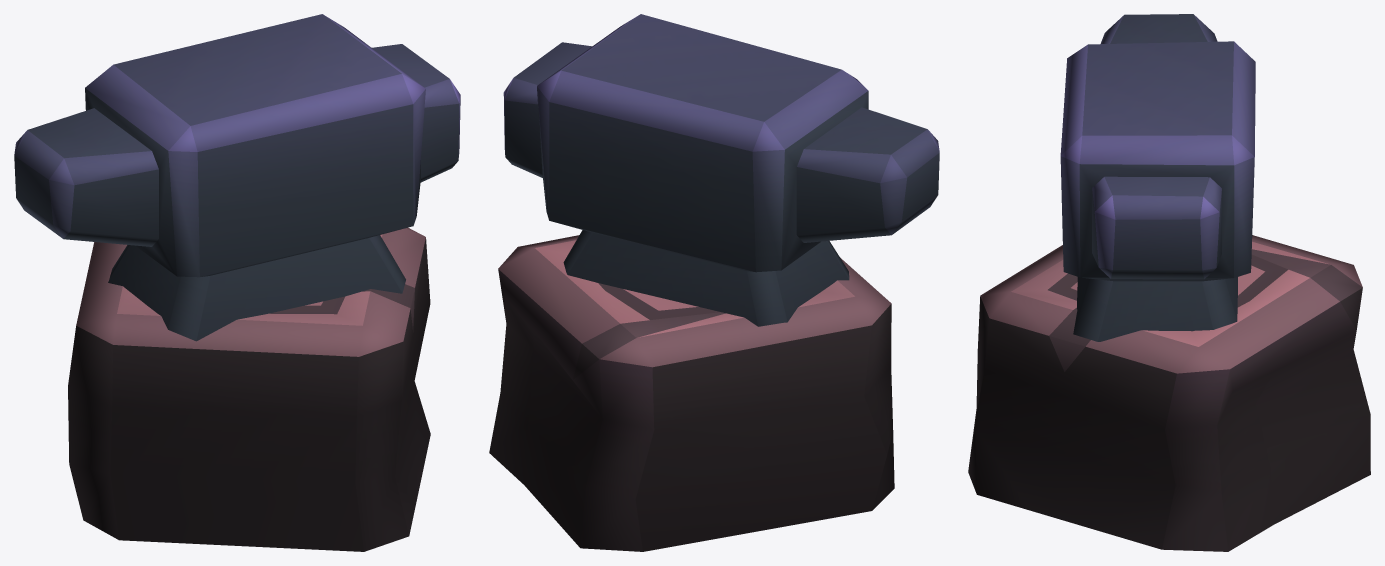
File: undead_anvil.fbx
The picture shows the model from 3 angles, left to right: view 1: azimuth 30°, elevation 25°; view 2: azimuth 150°, elevation 25°; view 3: azimuth 270°, elevation 25°; orthographic projection. The views are drawn at different scales.
Visible parts, largest first — view 1: undead_anvil; view 2: undead_anvil; view 3: undead_anvil.
Boxes of the visible parts, x1=… form: undead_anvil: x1=14, y1=14, x2=460, y2=551; undead_anvil: x1=489, y1=14, x2=939, y2=551; undead_anvil: x1=968, y1=14, x2=1370, y2=551.
Bounding box in the file's own units: 2.31 × 2.23 × 2.13.
